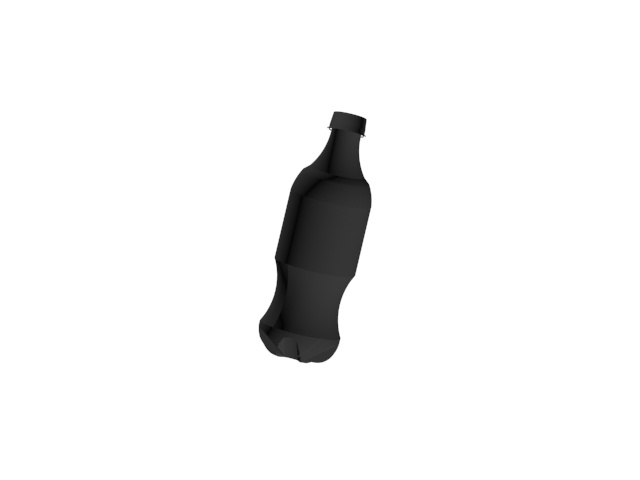bottle: (257, 105, 376, 368)
